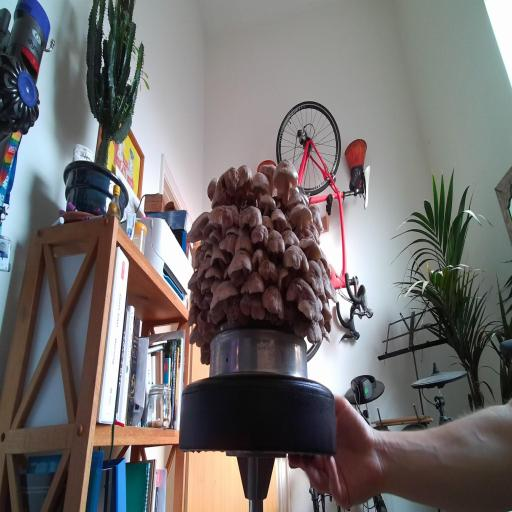Shiitake Mushroom: (276, 270, 335, 326), (196, 190, 252, 245), (198, 272, 249, 322), (263, 150, 308, 206), (294, 254, 341, 303), (252, 279, 297, 322), (285, 309, 332, 350), (179, 205, 218, 253), (278, 237, 312, 286), (212, 165, 245, 209), (230, 200, 270, 236), (227, 159, 260, 201), (261, 223, 291, 266), (190, 306, 222, 346), (250, 254, 287, 288), (263, 203, 296, 239), (286, 197, 315, 235), (204, 244, 238, 275), (183, 323, 211, 358), (225, 292, 252, 325), (244, 242, 274, 271), (228, 247, 253, 281), (296, 235, 326, 262), (248, 167, 271, 201), (269, 260, 294, 291), (192, 252, 216, 283), (240, 292, 265, 320), (258, 160, 276, 196), (239, 270, 266, 294), (283, 188, 310, 211), (308, 200, 325, 236), (185, 289, 211, 311), (257, 190, 277, 218), (218, 228, 238, 256), (250, 221, 270, 249), (184, 301, 202, 331), (190, 245, 209, 270), (318, 295, 334, 324), (307, 220, 323, 249), (283, 300, 300, 326), (257, 212, 279, 232), (204, 173, 219, 201), (201, 231, 222, 251), (317, 246, 332, 273), (282, 228, 300, 248), (234, 236, 254, 254), (199, 219, 215, 240), (203, 265, 224, 280), (188, 271, 202, 291), (206, 310, 226, 324), (201, 276, 214, 294), (210, 227, 223, 245), (208, 189, 219, 209), (299, 228, 316, 240), (200, 345, 210, 365), (225, 224, 239, 236), (324, 264, 333, 280), (324, 320, 332, 333), (205, 249, 212, 257)
